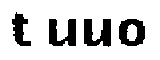o: (116, 16, 147, 50)
t: (10, 8, 33, 51)
u: (82, 14, 114, 53), (47, 13, 77, 53)
